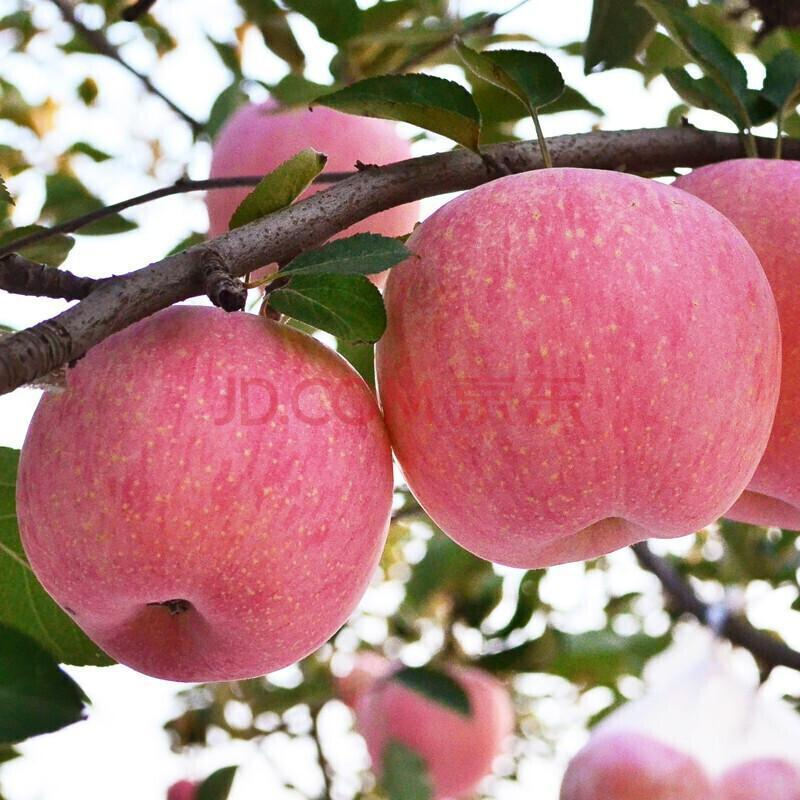apple: (384, 172, 792, 585), (17, 308, 400, 699)
